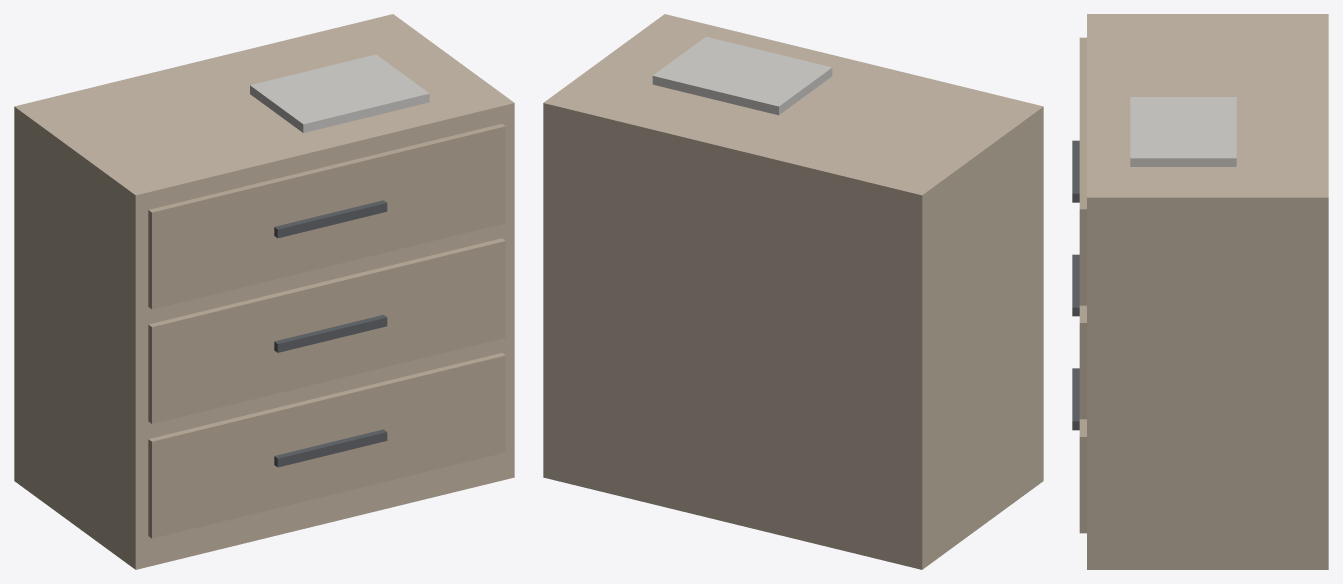
Rendered from drawer_cabinet.glb.
3 renders of one model, left to right at view 1: azimuth 30°, elevation 25°; view 2: azimuth 150°, elevation 25°; view 3: azimuth 270°, elevation 25°, orthographic.
Visible parts, largest first — view 1: geometry_0, geometry_5, geometry_3, geometry_1, geometry_7, geometry_2, geometry_4, geometry_6; view 2: geometry_0, geometry_7; view 3: geometry_0, geometry_7, geometry_5, geometry_1, geometry_3, geometry_2, geometry_4, geometry_6.
Part boxes in pixels (x1=…): geometry_0: x1=14, y1=14, x2=514, y2=569; geometry_5: x1=148, y1=124, x2=505, y2=309; geometry_3: x1=148, y1=238, x2=505, y2=423; geometry_1: x1=148, y1=353, x2=505, y2=538; geometry_7: x1=250, y1=54, x2=429, y2=132; geometry_2: x1=274, y1=429, x2=387, y2=467; geometry_4: x1=274, y1=315, x2=387, y2=352; geometry_6: x1=274, y1=200, x2=387, y2=238; geometry_0: x1=543, y1=14, x2=1043, y2=569; geometry_7: x1=652, y1=36, x2=832, y2=115; geometry_0: x1=1087, y1=14, x2=1328, y2=569; geometry_7: x1=1130, y1=97, x2=1236, y2=166; geometry_5: x1=1079, y1=37, x2=1086, y2=305; geometry_1: x1=1079, y1=419, x2=1086, y2=533; geometry_3: x1=1079, y1=305, x2=1086, y2=419; geometry_2: x1=1072, y1=368, x2=1079, y2=430; geometry_4: x1=1072, y1=254, x2=1079, y2=316; geometry_6: x1=1072, y1=140, x2=1079, y2=202.
Bounding box in the file's own units: 0.9 × 0.87 × 0.53.
